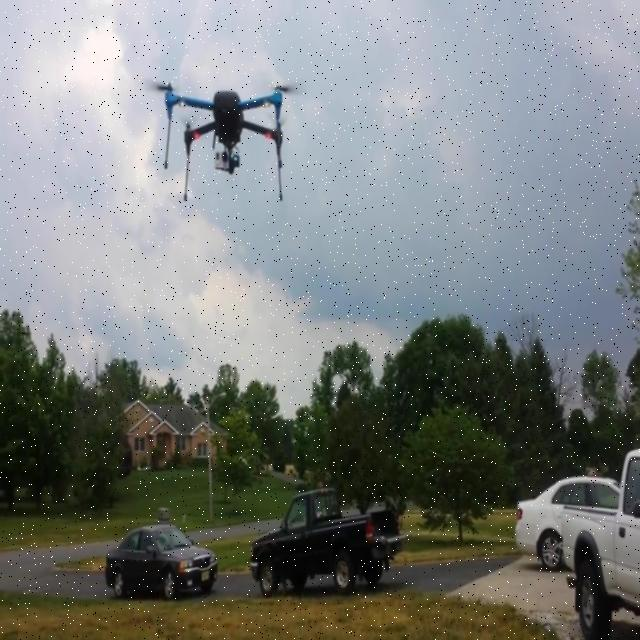UAV: (143, 78, 307, 202)
